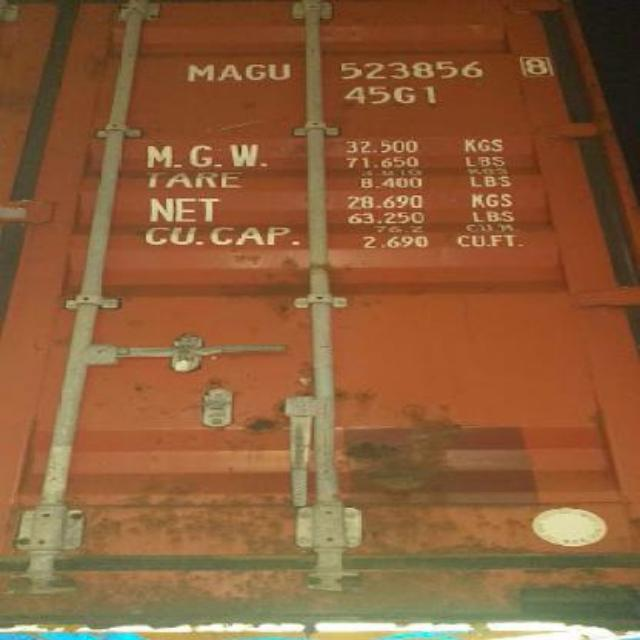2: (362, 56, 388, 82)
3: (384, 55, 412, 81)
5: (328, 55, 364, 81), (434, 52, 460, 84)
6: (456, 50, 488, 86)
8: (406, 55, 436, 81), (524, 57, 552, 77)
A: (218, 60, 242, 84)
G: (242, 58, 266, 84)
M: (174, 60, 216, 86)
U: (266, 59, 296, 85)
